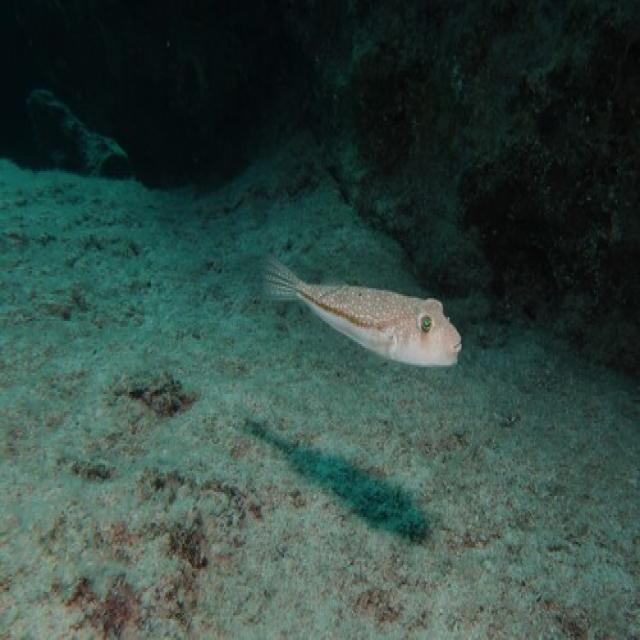Balik: (265, 260, 462, 367)
